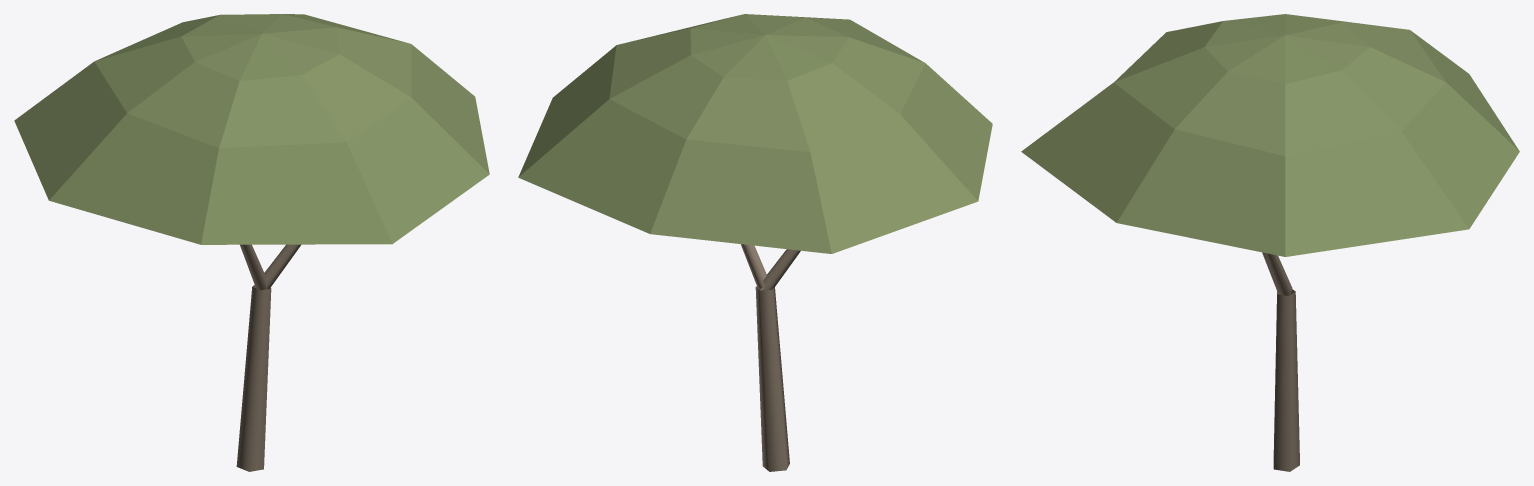
Rendered from acacia_small_LOD2.fbx.
3 renders of one model, left to right at view 1: azimuth 30°, elevation 25°; view 2: azimuth 150°, elevation 25°; view 3: azimuth 270°, elevation 25°, orthographic.
Parts seen in each view (by area): view 1: acacia_small_LOD2; view 2: acacia_small_LOD2; view 3: acacia_small_LOD2.
Boxes of the visible parts, <box> form: acacia_small_LOD2: <box>14,14,489,471</box>; acacia_small_LOD2: <box>518,14,992,471</box>; acacia_small_LOD2: <box>1021,14,1519,471</box>.
Bounding box in the file's own units: 6.8 × 6.56 × 6.8.
